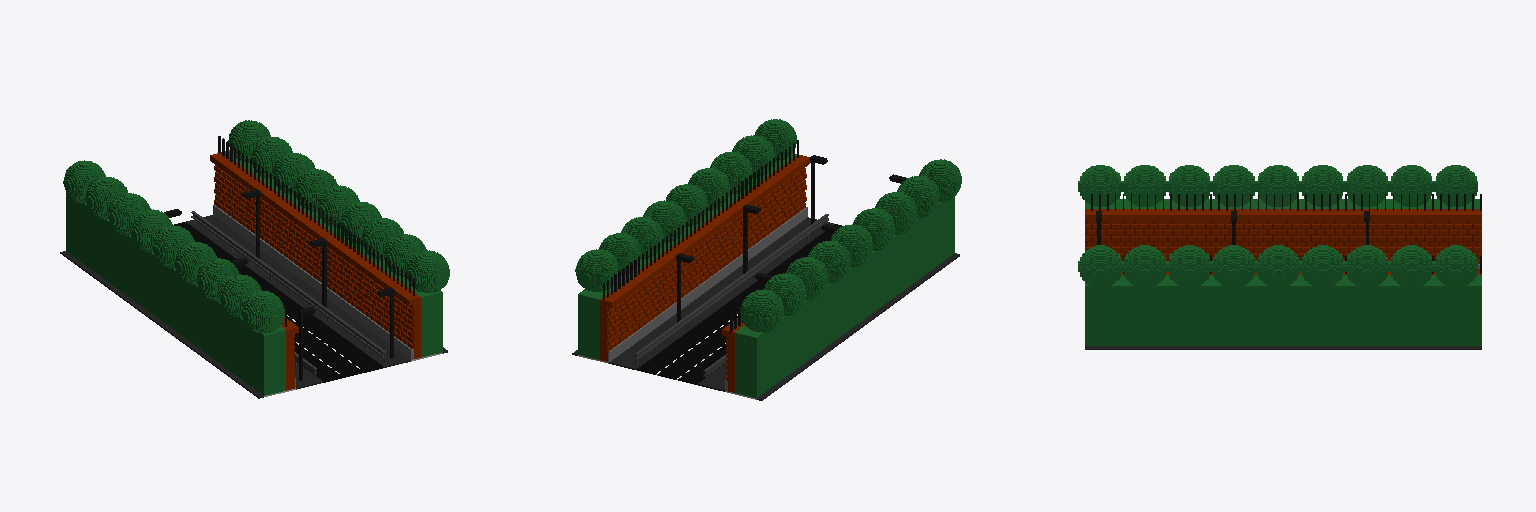
The picture shows the model from 3 angles: view 1: azimuth 30°, elevation 25°; view 2: azimuth 150°, elevation 25°; view 3: azimuth 270°, elevation 25°; orthographic projection.
Parts seen in each view (by area): view 1: object 1; view 2: object 1; view 3: object 1.
Boxes of the visible parts, x1,y1,x2,y2 form: object 1: [60, 120, 449, 398]; object 1: [572, 119, 961, 400]; object 1: [1078, 165, 1481, 349].
Size of the model in its own units: 14.6 by 6.7 by 25.4.
1 materials, 1 textured.